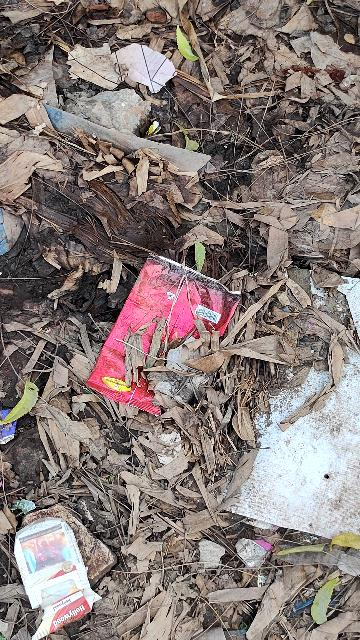packet: (102, 255, 219, 398)
